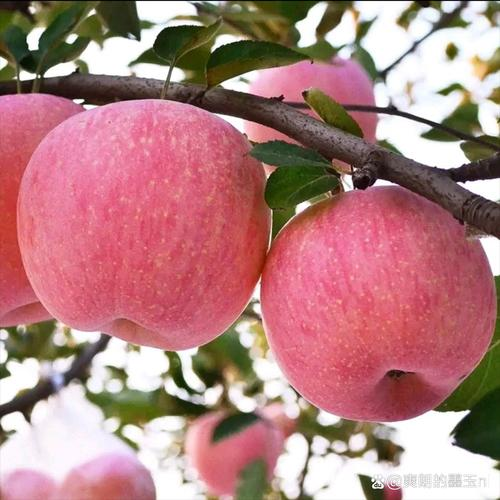ripe: (5, 98, 276, 355), (258, 184, 497, 427), (237, 55, 394, 179)
